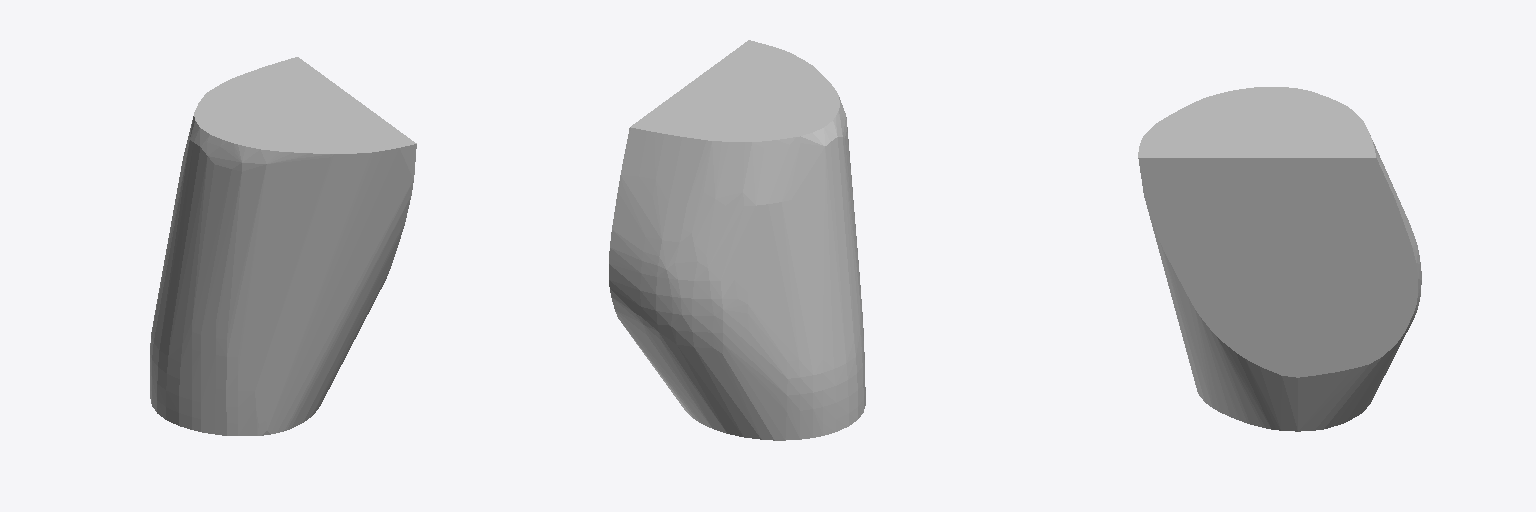
Rendered from woman_collision_11.obj.
The picture shows the model from 3 angles: view 1: azimuth 30°, elevation 25°; view 2: azimuth 150°, elevation 25°; view 3: azimuth 270°, elevation 25°; orthographic projection.
Bounding box in the file's own units: 20.86 × 31.46 × 28.44.